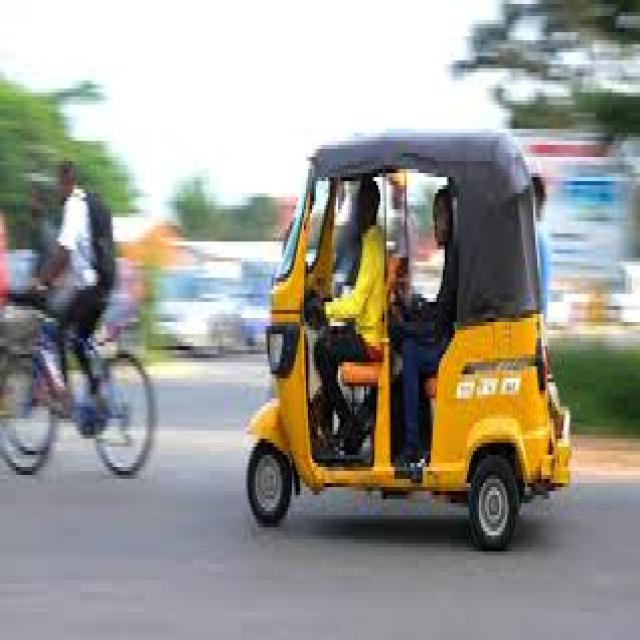bicycle: (0, 314, 155, 475)
person: (314, 177, 382, 455), (398, 185, 457, 475), (38, 165, 101, 338)
three wheeler: (248, 133, 568, 547)
